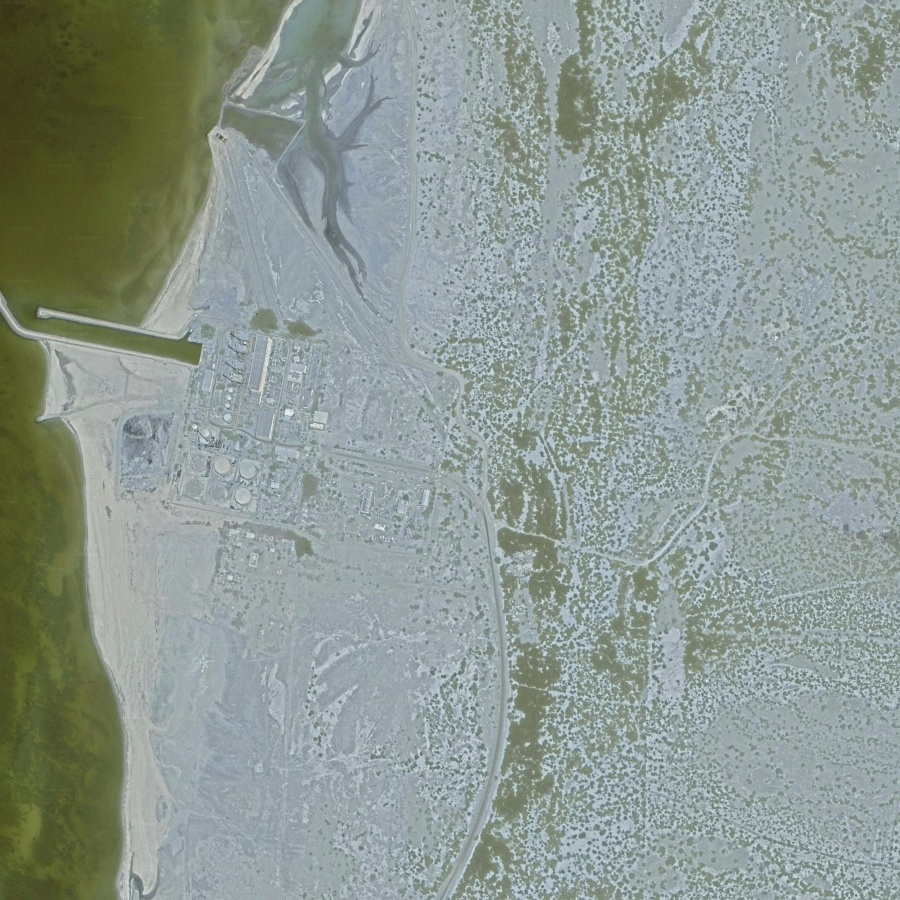PowerPlant: (109, 320, 337, 523)
